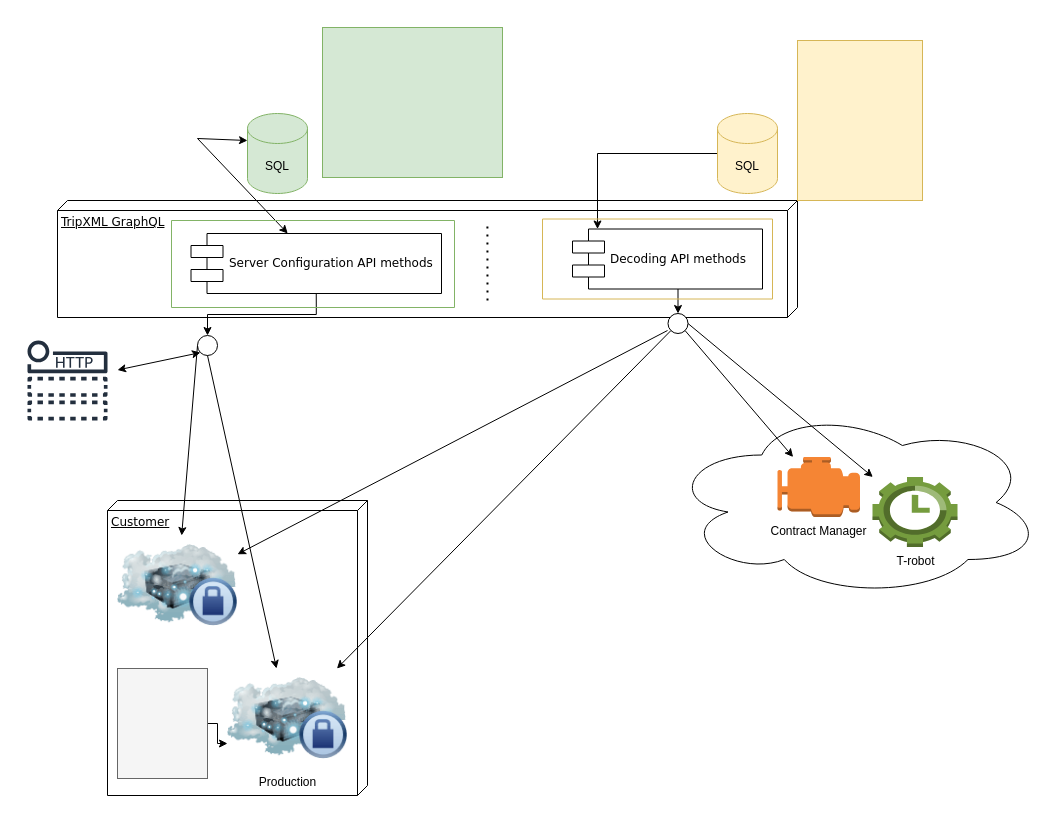
This 1061x813 diagram has some shape labels left out. The centre of each missing label's shape, as x and y in pixels:
Decoding Airports Airline GEO Locations Cruise Hotels Cars Rails: the point at 859,120
Server Users Providers Systems PCCs: the point at 162,723
Stage: the point at 177,585
TripXML Admin: the point at 67,380
TripXMLAdmin Customers Servers Users Providers Systems PCC WSDL Schemas: the point at 412,102
